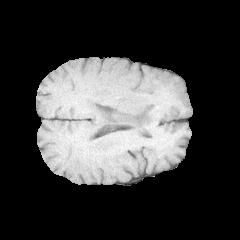glioma: (116, 90, 173, 124)
